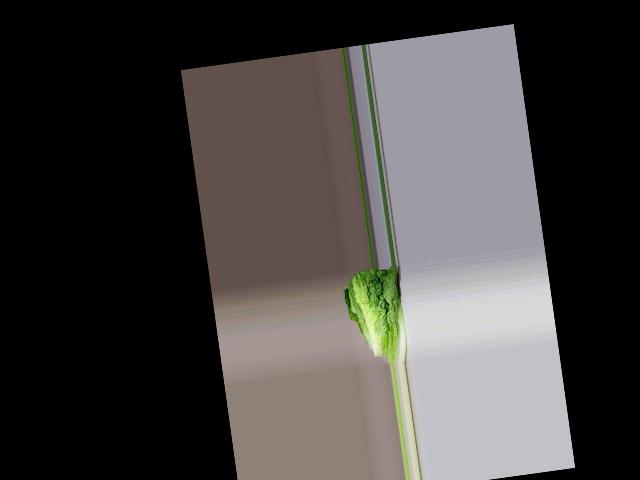lettuce: (348, 264, 412, 363)
